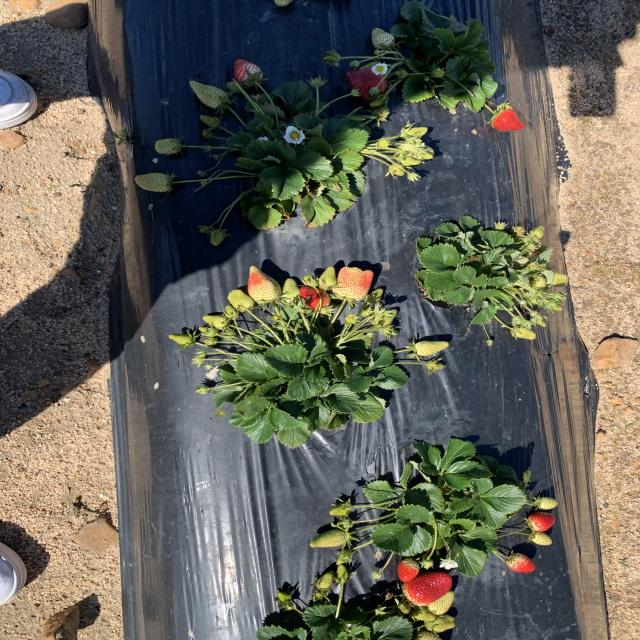unripe: (400, 573, 452, 604), (347, 67, 388, 99), (492, 108, 523, 132), (300, 286, 328, 308), (525, 512, 556, 531), (235, 61, 263, 82), (507, 556, 535, 574), (398, 560, 419, 582)
